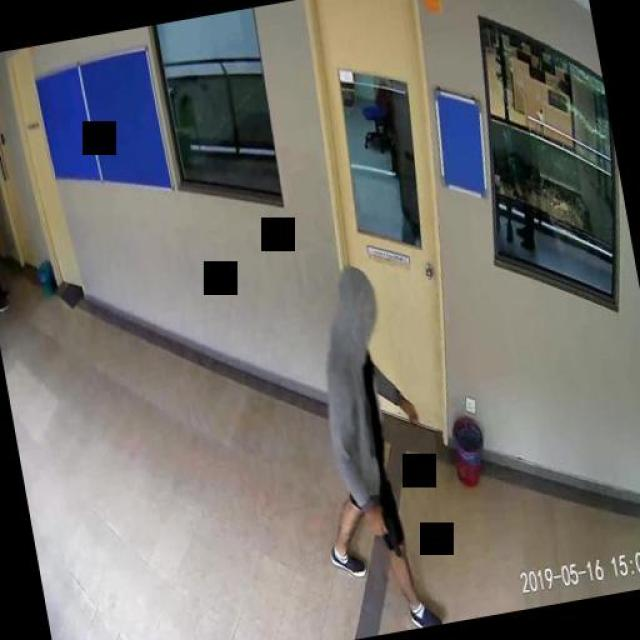gun: (368, 510, 400, 561)
